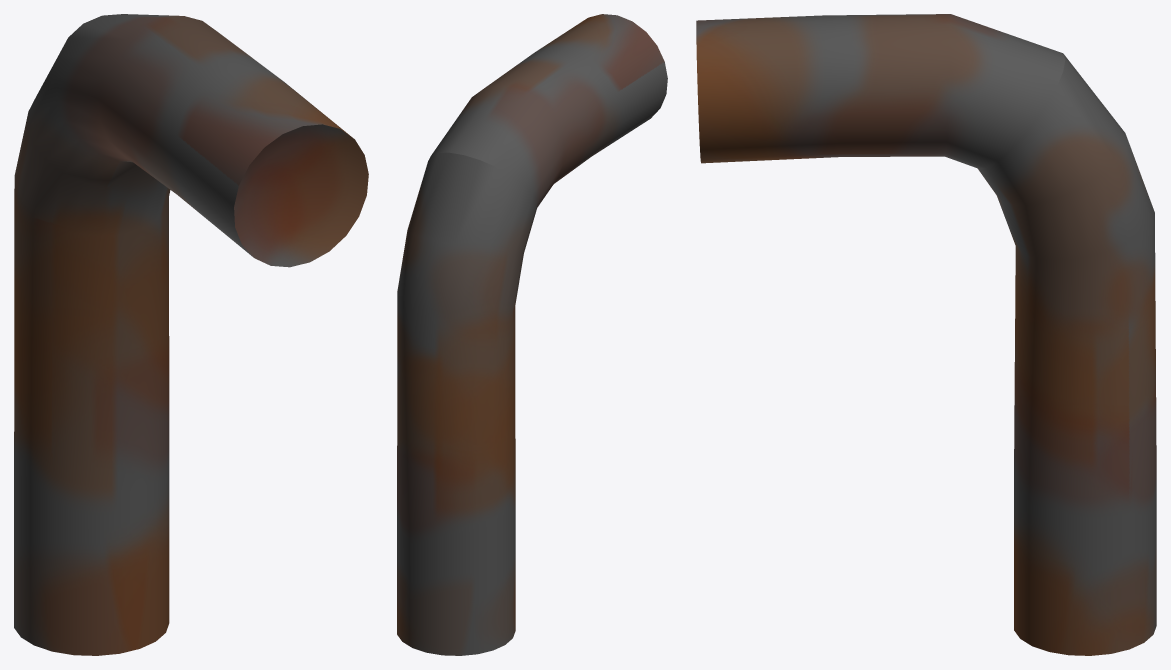
The model's file is pipe 4.glb.
3 renders of one model, left to right at view 1: azimuth 30°, elevation 25°; view 2: azimuth 150°, elevation 25°; view 3: azimuth 270°, elevation 25°, orthographic. The views are drawn at different scales.
Parts seen in each view (by area): view 1: Cylinder; view 2: Cylinder; view 3: Cylinder.
Part boxes in pixels (x1,y1,x2,y2): Cylinder: (14, 14, 368, 655); Cylinder: (397, 14, 667, 655); Cylinder: (696, 14, 1156, 655).
Size of the model in its own units: 0.1436 by 0.6702 by 0.4617.
Materials: 1 (1 with a texture image).
